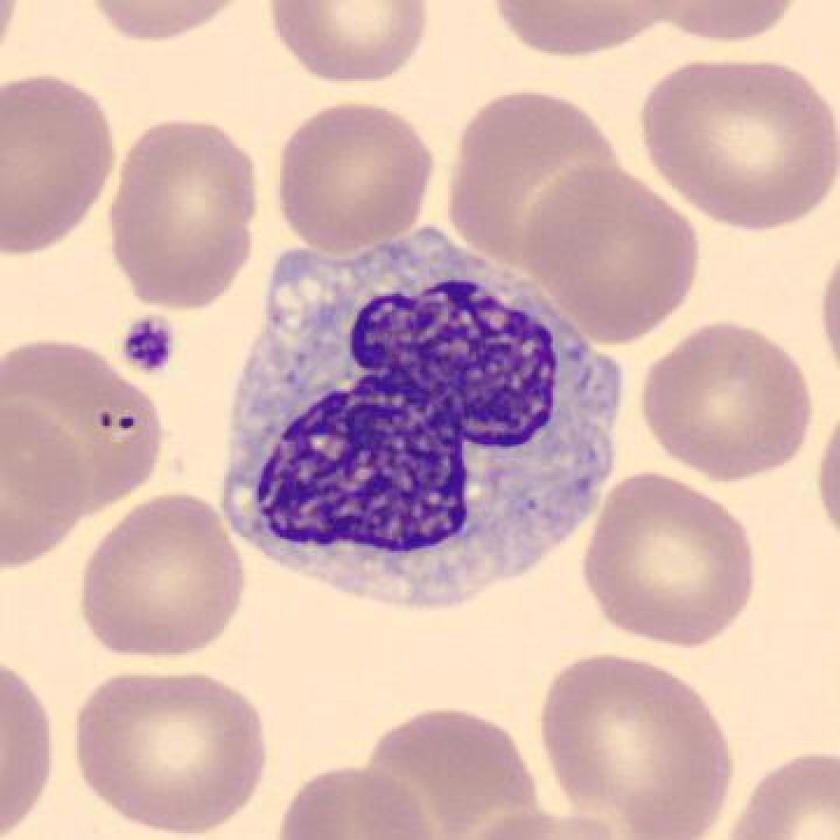monocyte: (202, 214, 636, 640)
